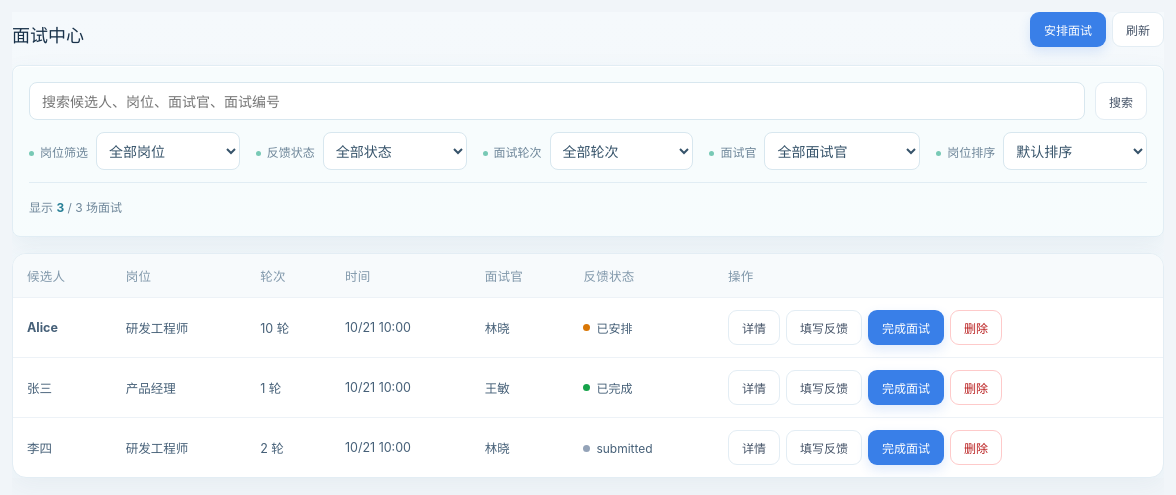
Test case: Interview list search and filters › combines all filters with search and resets every control
Select "研发工程师" in the dropdown with id "interview-job-filter". click: (168,151)
box: [96,132,240,170]
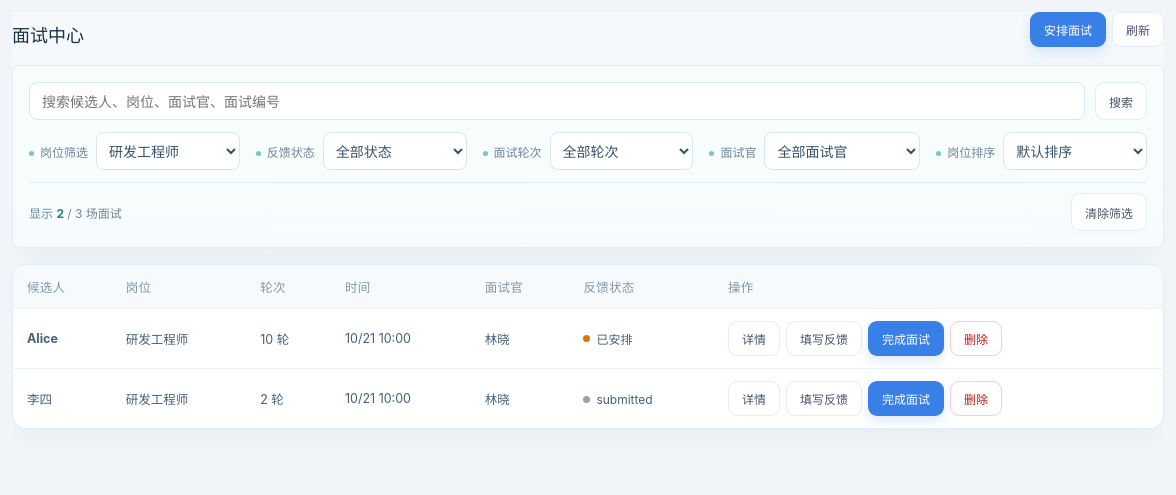
Select "已提交" in the dropdown labelled "反馈状态". click: (395,151)
box: [323,132,467,170]
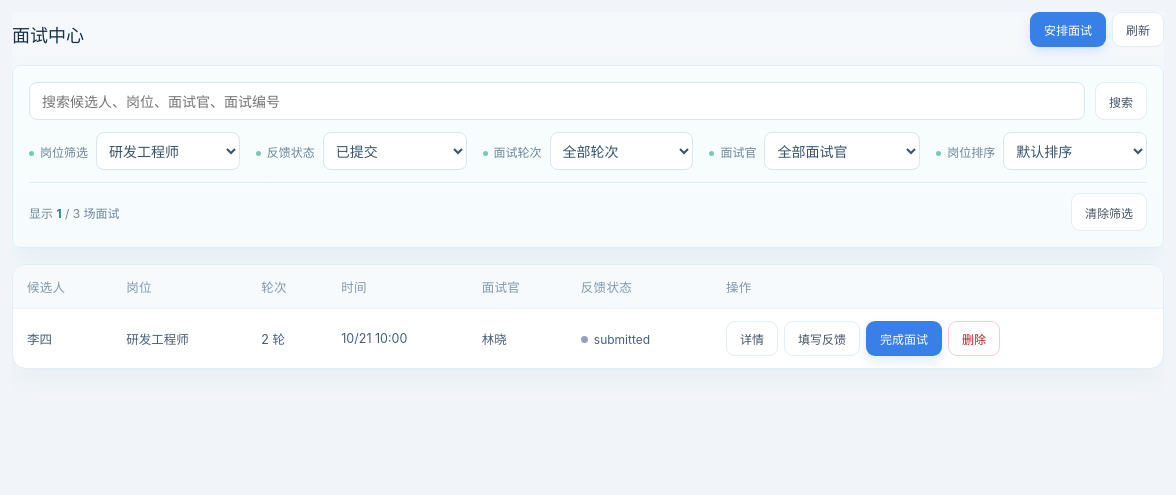
Select "2 轮" in the dropdown labelled "面试轮次". click: (622,151)
box: [550,132,693,170]
Select "林晓" in the dropdown labelled "面试官". click: (842,151)
box: [764,132,920,170]
Select "岗位 Z→A" in the dropdown labelled "岗位排序". click: (1075,151)
box: [1003,132,1147,170]
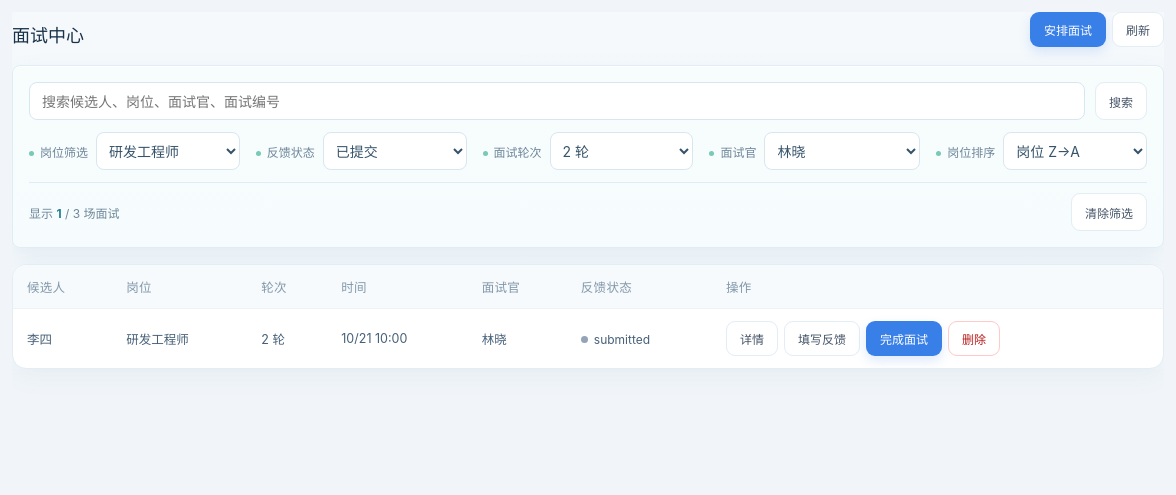
Type "李" into the search field named "面试中心搜索". click: (557,101)
box: [29,82,1085,120]
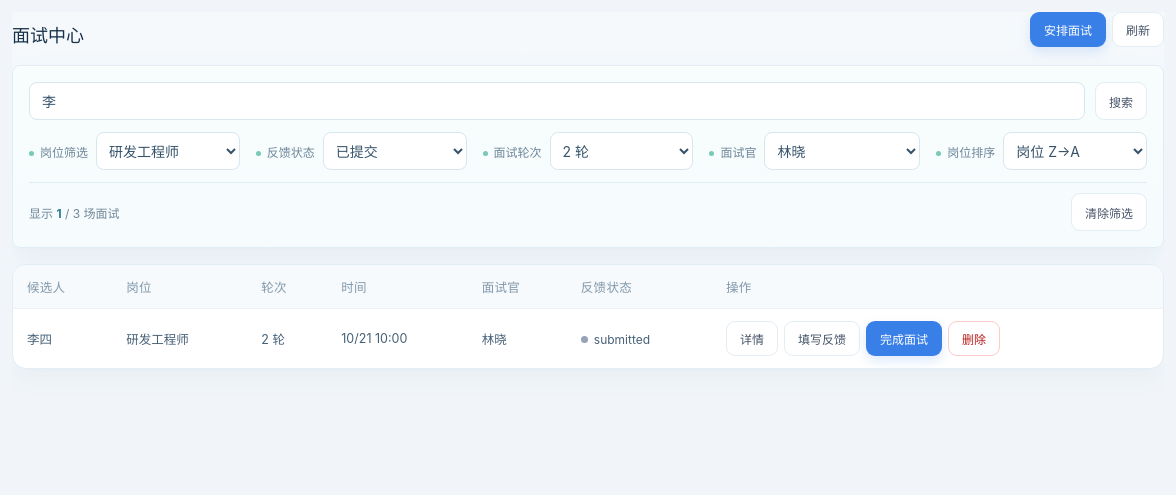
Check: the element with class "filter-summary" shows "显示 1 / 3 场面试", box [29,182,1147,231]
Replace the text in the search field named "面试中心搜索" with "张三". click: (557,101)
box: [29,82,1085,120]
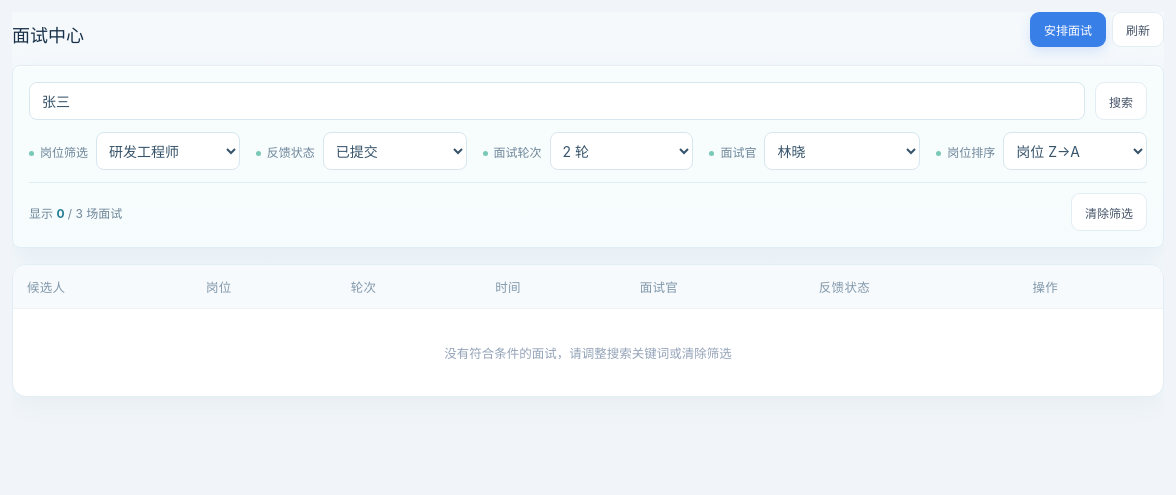
Check: the cell with class "table-empty" shows "没有符合条件的面试", box [444,346,732,361]
Click the button "清除筛选". click: (1109,212)
box: [1071,193,1147,231]
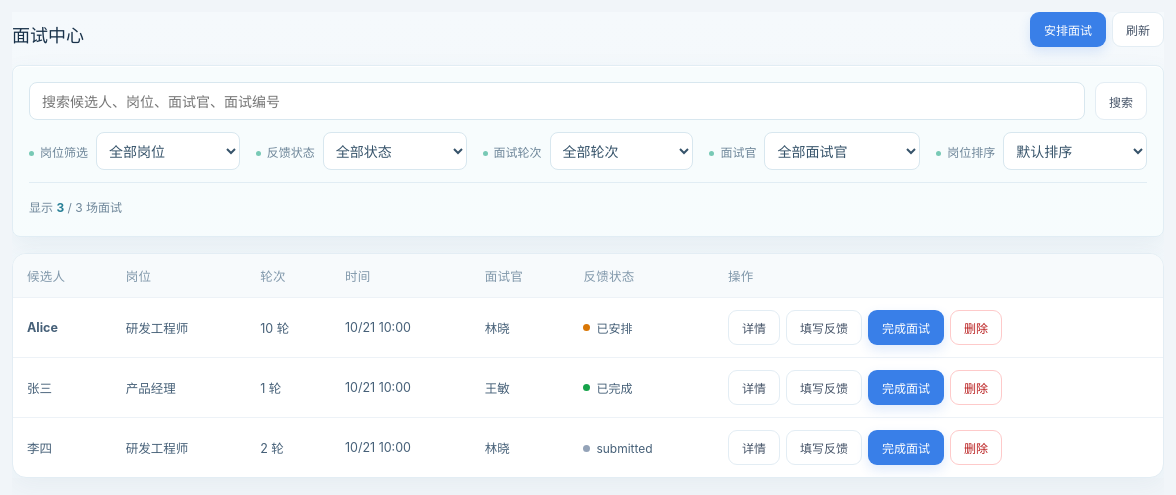
Check: the search field named "面试中心搜索" is empty, box [29,82,1085,120]
